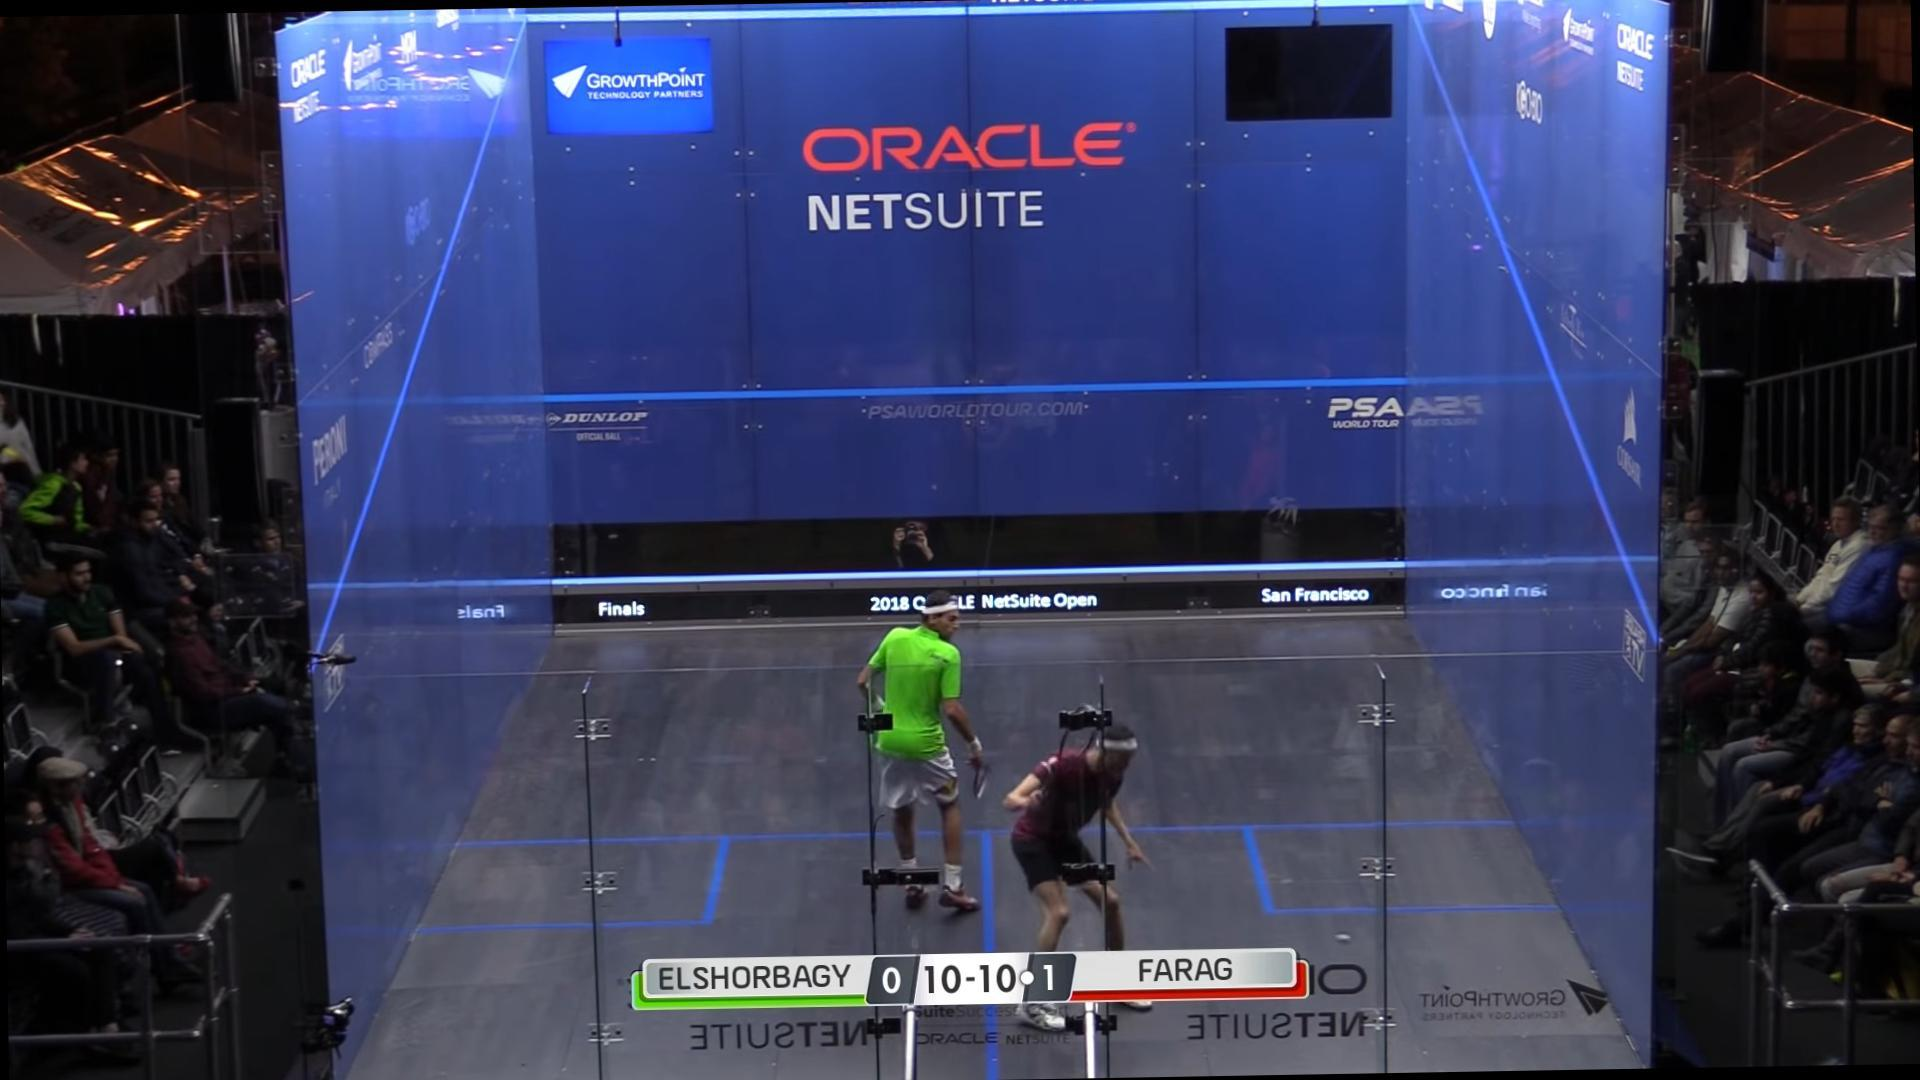Squash-Ball: (1329, 924, 1357, 953)
